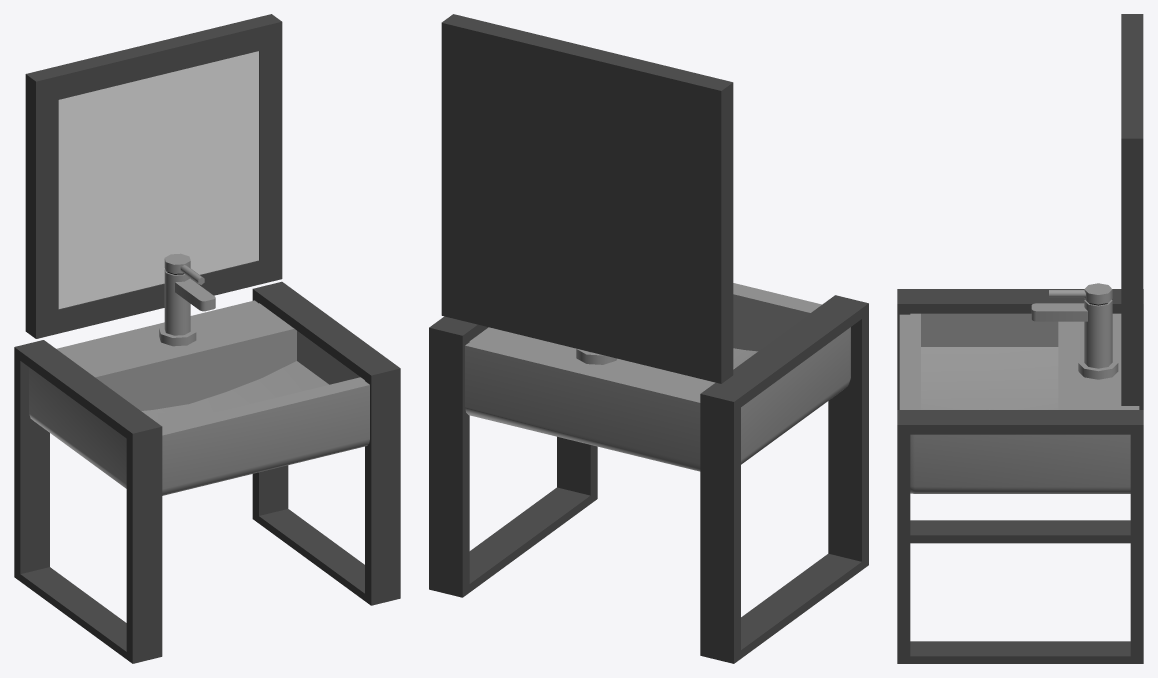
Rendered from washstand.fbx.
3 renders of one model, left to right at view 1: azimuth 30°, elevation 25°; view 2: azimuth 150°, elevation 25°; view 3: azimuth 270°, elevation 25°, orthographic. The views are drawn at different scales.
Parts seen in each view (by area): view 1: 큐브, polySurface7, polySurface8, WallMirror_04, Faucet_03Shape; view 2: WallMirror_04, polySurface7, polySurface8; view 3: polySurface8, polySurface7, WallMirror_04, Faucet_03Shape.
Part boxes in pixels (bbox=[...]): 큐브: bbox=[58, 51, 258, 308]; polySurface7: bbox=[14, 281, 400, 663]; polySurface8: bbox=[29, 300, 369, 495]; WallMirror_04: bbox=[25, 14, 282, 338]; Faucet_03Shape: bbox=[159, 253, 215, 346]; WallMirror_04: bbox=[441, 14, 733, 383]; polySurface7: bbox=[429, 295, 868, 663]; polySurface8: bbox=[465, 283, 850, 471]; polySurface8: bbox=[899, 313, 1139, 493]; polySurface7: bbox=[897, 289, 1143, 663]; WallMirror_04: bbox=[1121, 14, 1143, 405]; Faucet_03Shape: bbox=[1031, 283, 1118, 379].
Bounding box in the file's own units: 70.16 × 125 × 53.75.
